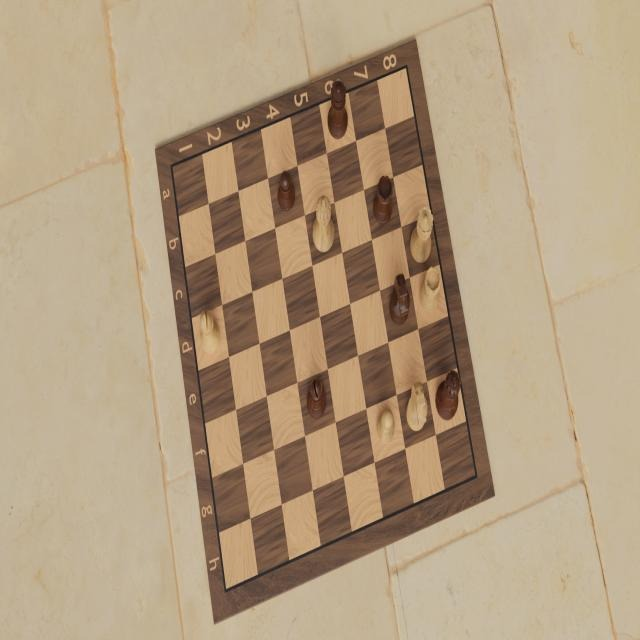black-bishop: (306, 371, 328, 424)
black-king: (434, 370, 462, 425)
black-knight: (388, 270, 411, 329)
black-pawn: (277, 166, 297, 215)
black-queen: (326, 77, 350, 143)
black-rook: (372, 173, 394, 227)
white-bishop: (198, 308, 224, 356)
white-king: (309, 194, 336, 258)
white-knight: (405, 384, 431, 434)
white-pawn: (374, 404, 397, 452)
white-queen: (410, 205, 434, 263)
white-rook: (417, 267, 443, 317)
